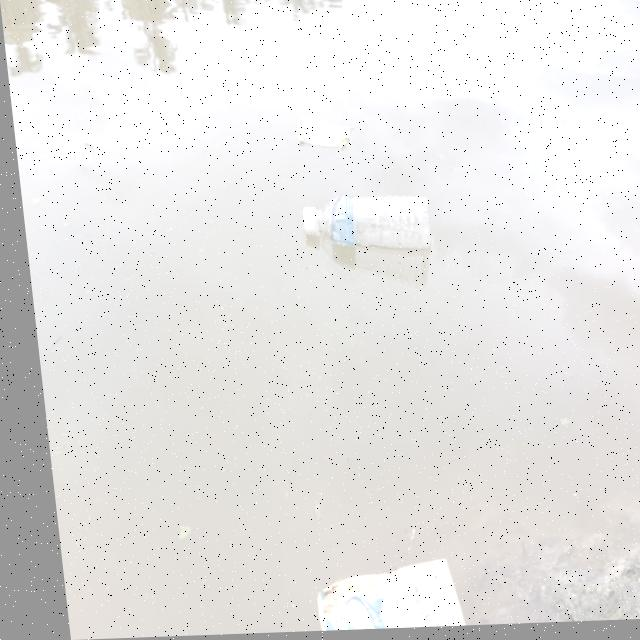paper: (271, 565, 458, 634), (274, 107, 357, 165)
waterbottle: (274, 170, 439, 271)
